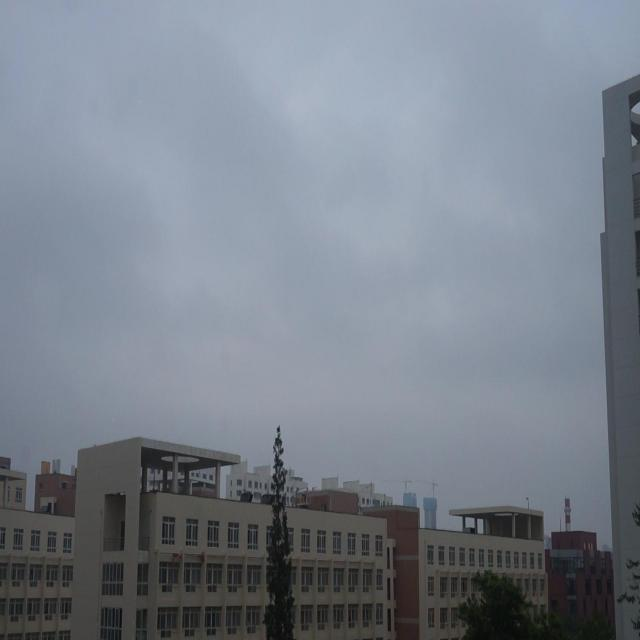UAV: (293, 487, 316, 506)
